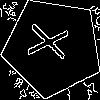X: (27, 22, 78, 63)
